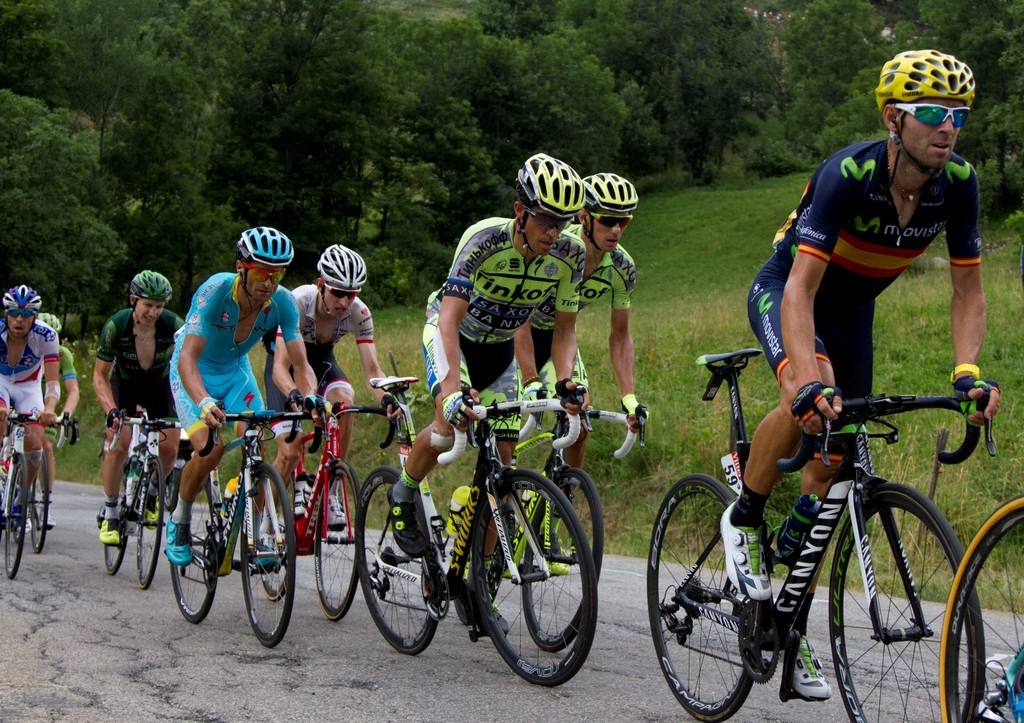Bike: (644, 348, 996, 722), (357, 372, 605, 688), (168, 397, 329, 648), (94, 407, 175, 591)
